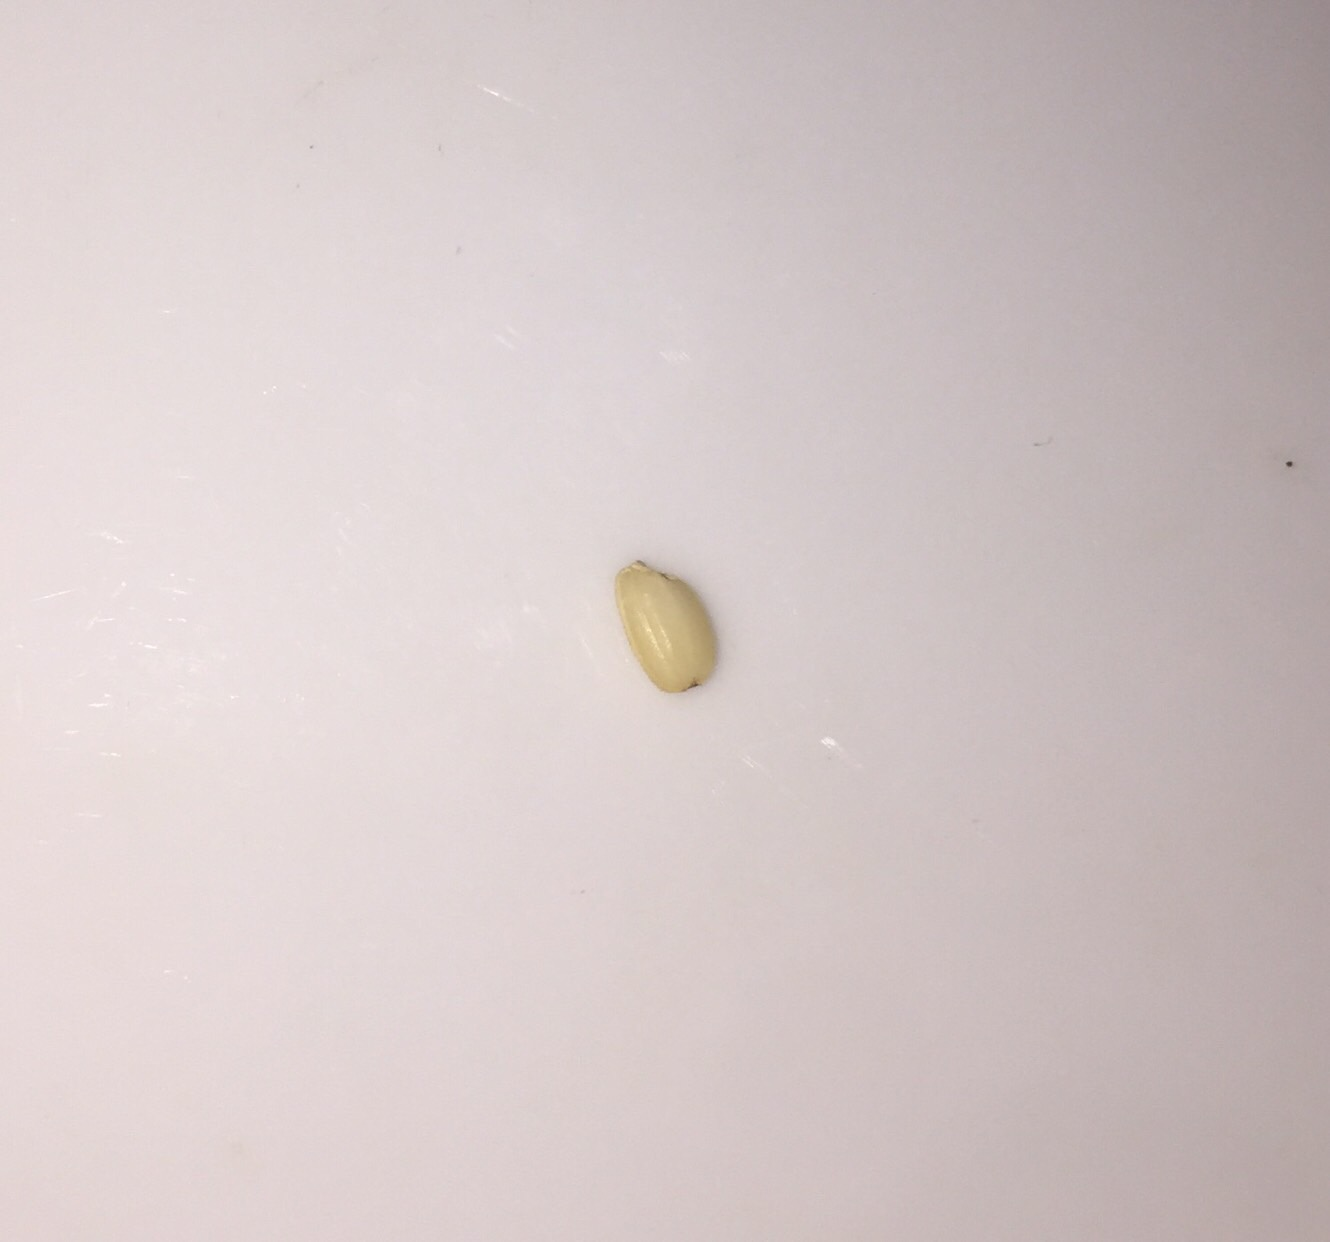Gao Lut Bac: (596, 539, 731, 706)
